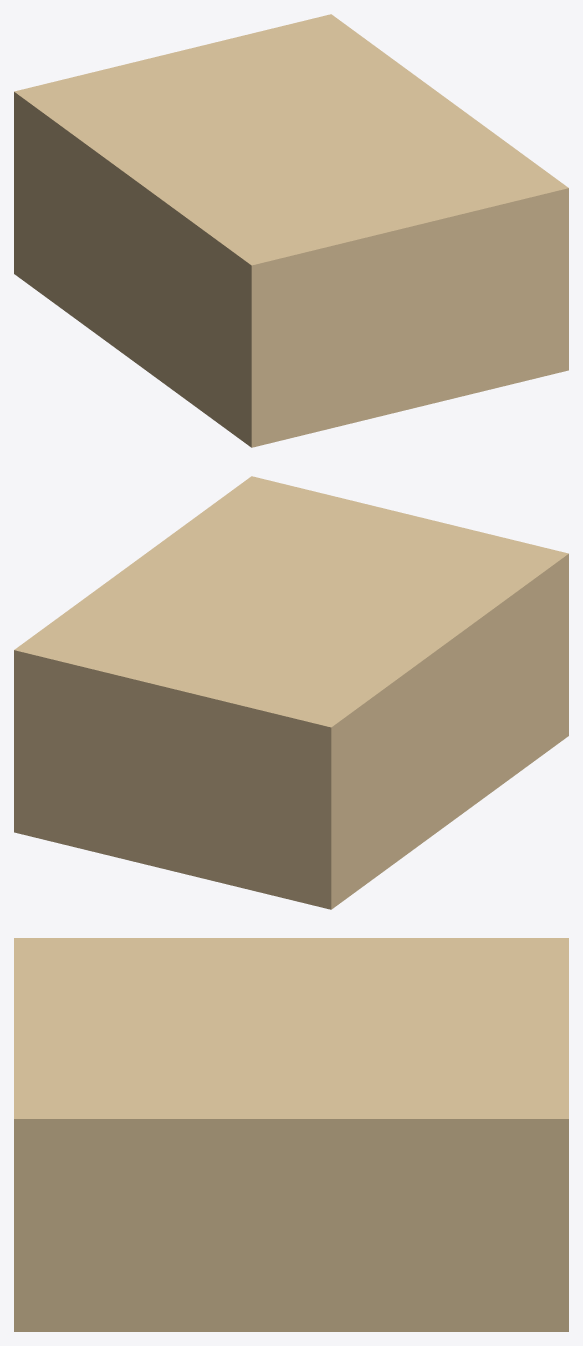
Rendered from Change_MA-A_Button.fbx.
The picture shows the model from 3 angles, top to bottom: view 1: azimuth 30°, elevation 25°; view 2: azimuth 150°, elevation 25°; view 3: azimuth 270°, elevation 25°; orthographic projection. The views are drawn at different scales.
Visible parts, largest first — view 1: Cube.010; view 2: Cube.010; view 3: Cube.010.
Part boxes in pixels (x1,y1,x2,y2): Cube.010: (14, 14, 568, 447); Cube.010: (14, 476, 568, 909); Cube.010: (14, 938, 568, 1331).
Bounding box in the file's own units: 102 × 56 × 132.
